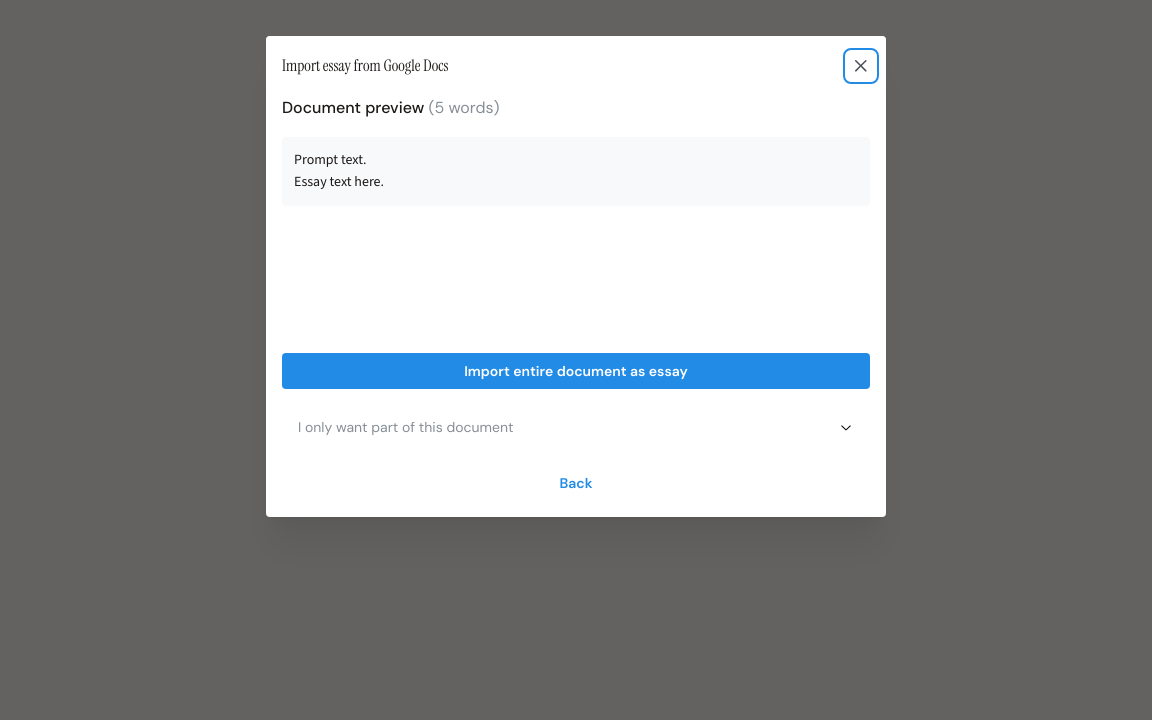
Scenario: GDocImportDialog › transitions from no-bookmarks to bookmarks view after refresh
The image size is (1152, 720).
Expected: the text "Document preview (5 words)" is shown, x1=282 y1=97 x2=499 y2=118
Expand accordion and click refresh
Click the button "I only want part of this document". click: click(372, 427)
box: x1=282 y1=405 x2=870 y2=449
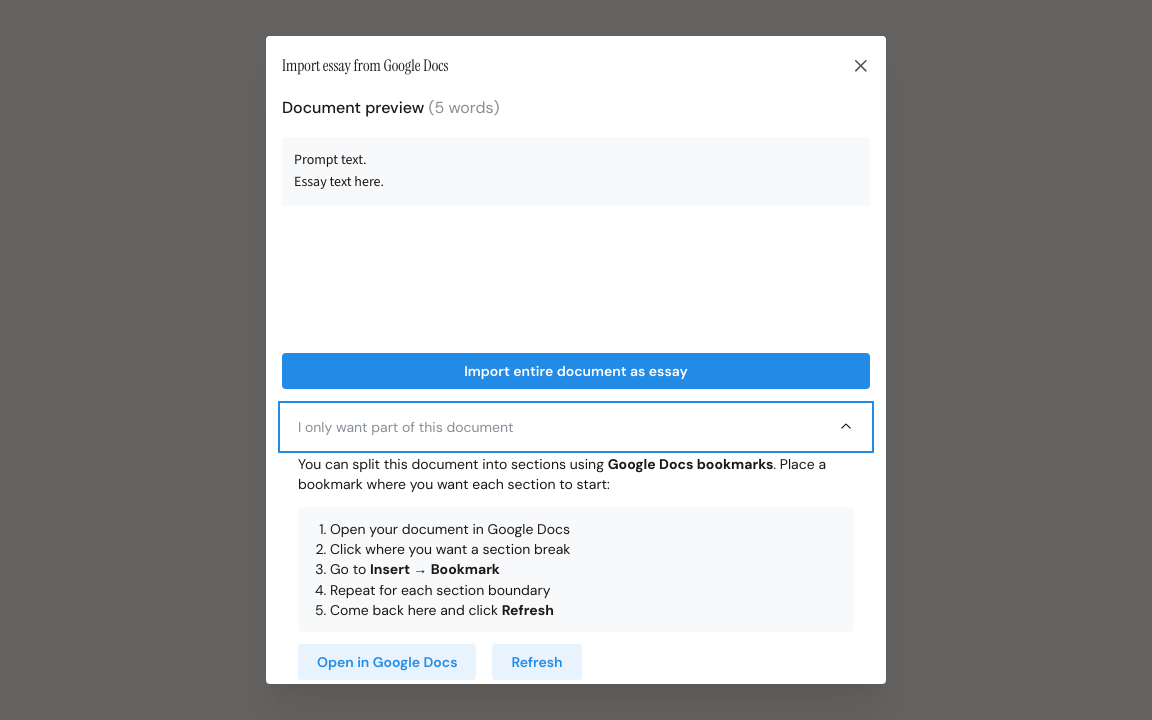
Expected: the button "Refresh" is shown
Click the button "Refresh". click: click(537, 662)
box: x1=492 y1=644 x2=582 y2=680
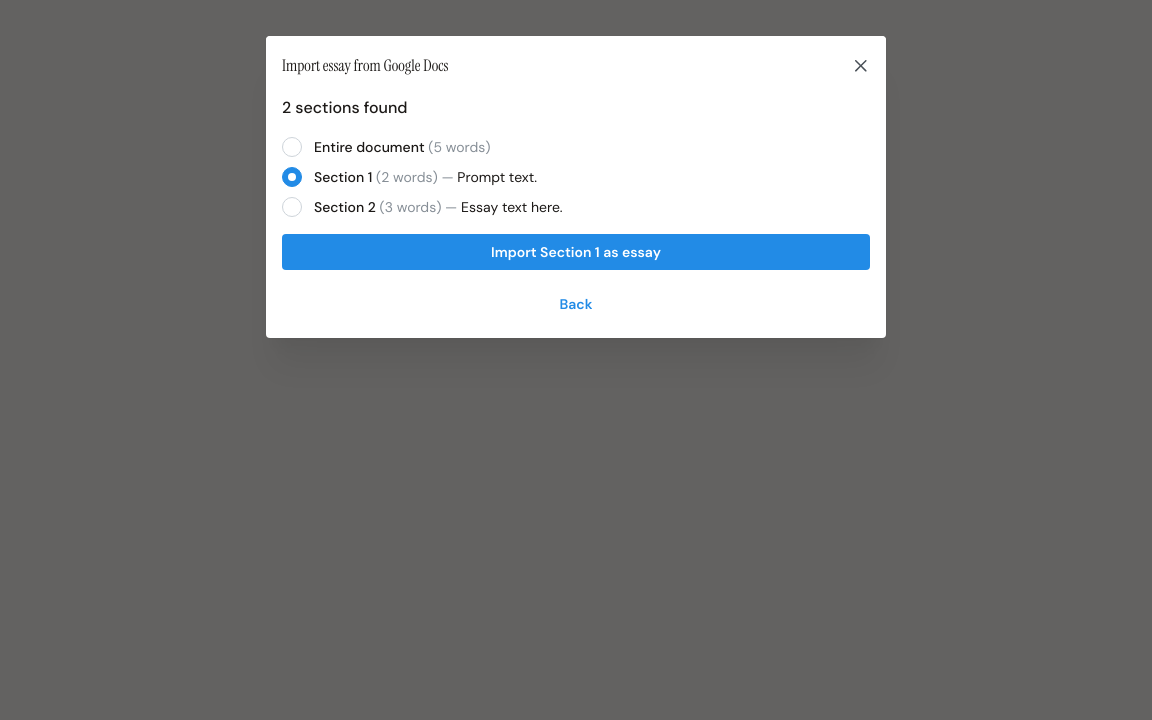
Expected: the text "2 sections found" is shown, x1=282 y1=97 x2=408 y2=118
